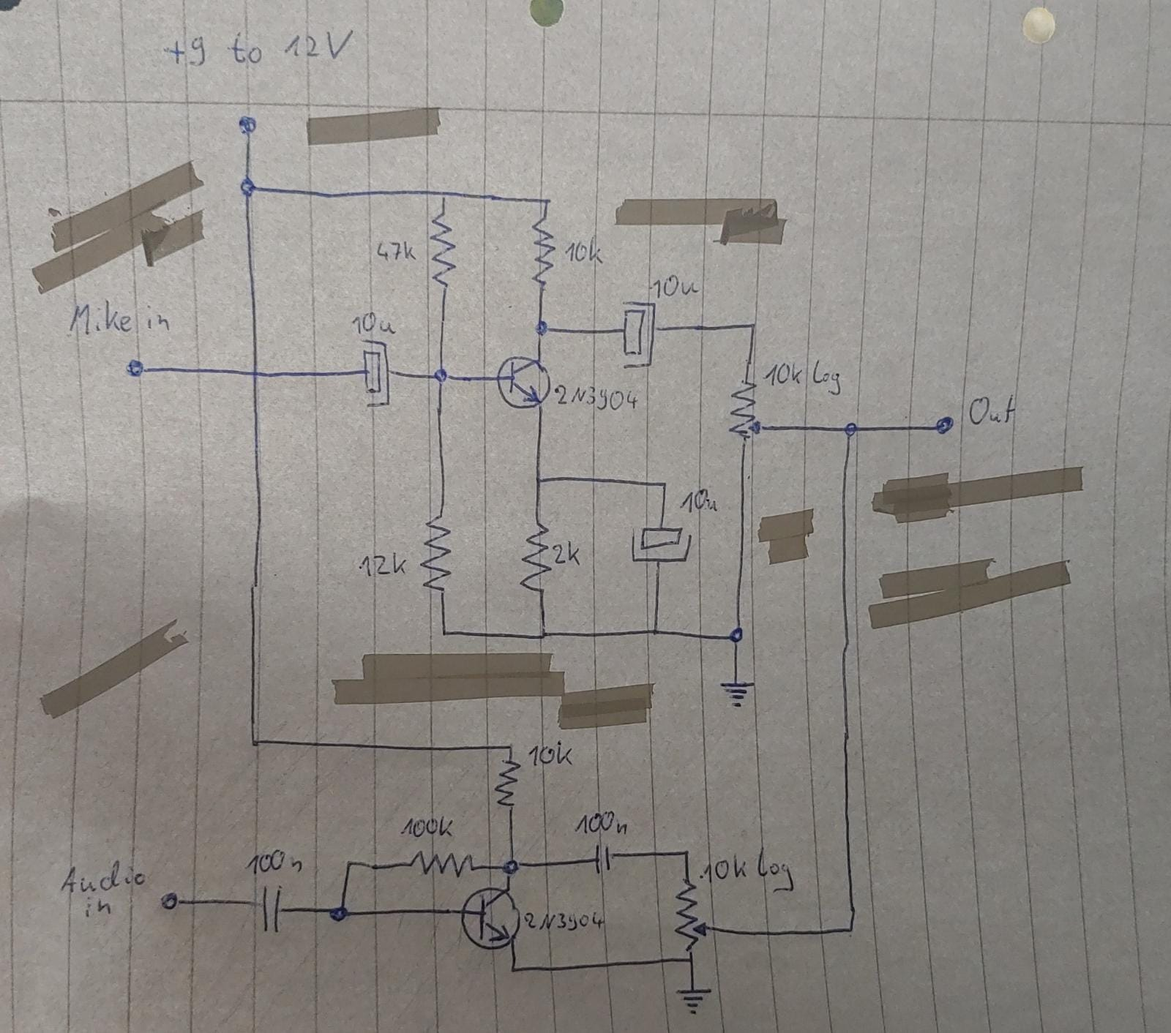capacitor.polarized: (618, 298, 659, 371), (628, 525, 695, 568), (358, 337, 394, 416)
capacitor.unpolarized: (252, 883, 288, 935), (591, 841, 616, 876)
crossover: (248, 366, 262, 381)
gnd: (675, 985, 716, 1021), (717, 680, 756, 709)
junction: (429, 364, 452, 387), (239, 175, 259, 200), (498, 854, 520, 876), (328, 904, 351, 925), (725, 623, 745, 646), (531, 317, 551, 338), (841, 420, 861, 440), (841, 919, 860, 939), (534, 626, 552, 644), (539, 192, 555, 209), (647, 623, 663, 640), (746, 318, 761, 334), (247, 735, 262, 751), (531, 473, 546, 488), (435, 187, 450, 202), (506, 962, 520, 976), (657, 477, 670, 492), (504, 739, 517, 753), (343, 857, 355, 870), (439, 627, 451, 639), (684, 953, 695, 966), (681, 848, 692, 860)
resistor: (417, 511, 455, 599), (517, 518, 553, 598), (427, 210, 459, 292), (528, 219, 557, 288), (407, 848, 476, 876), (494, 759, 522, 810)
resistor.adjustable: (726, 377, 767, 445), (671, 881, 710, 952)
terminal: (234, 113, 258, 138), (159, 890, 183, 914), (930, 414, 955, 437), (124, 357, 146, 379)
text: (161, 30, 363, 67), (56, 857, 151, 920), (697, 845, 799, 895), (66, 298, 175, 340), (760, 358, 844, 395), (551, 379, 638, 413), (523, 907, 607, 934), (242, 847, 306, 876), (571, 808, 632, 838), (966, 393, 1018, 427), (356, 549, 410, 579), (400, 814, 458, 841), (525, 740, 577, 770), (647, 273, 701, 299), (564, 234, 606, 266), (350, 309, 397, 337), (678, 486, 719, 514), (374, 238, 418, 263), (550, 538, 584, 568)
transistor.bjt: (459, 884, 520, 951), (493, 353, 554, 410)
